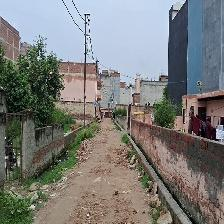Road: (36, 118, 158, 219)
